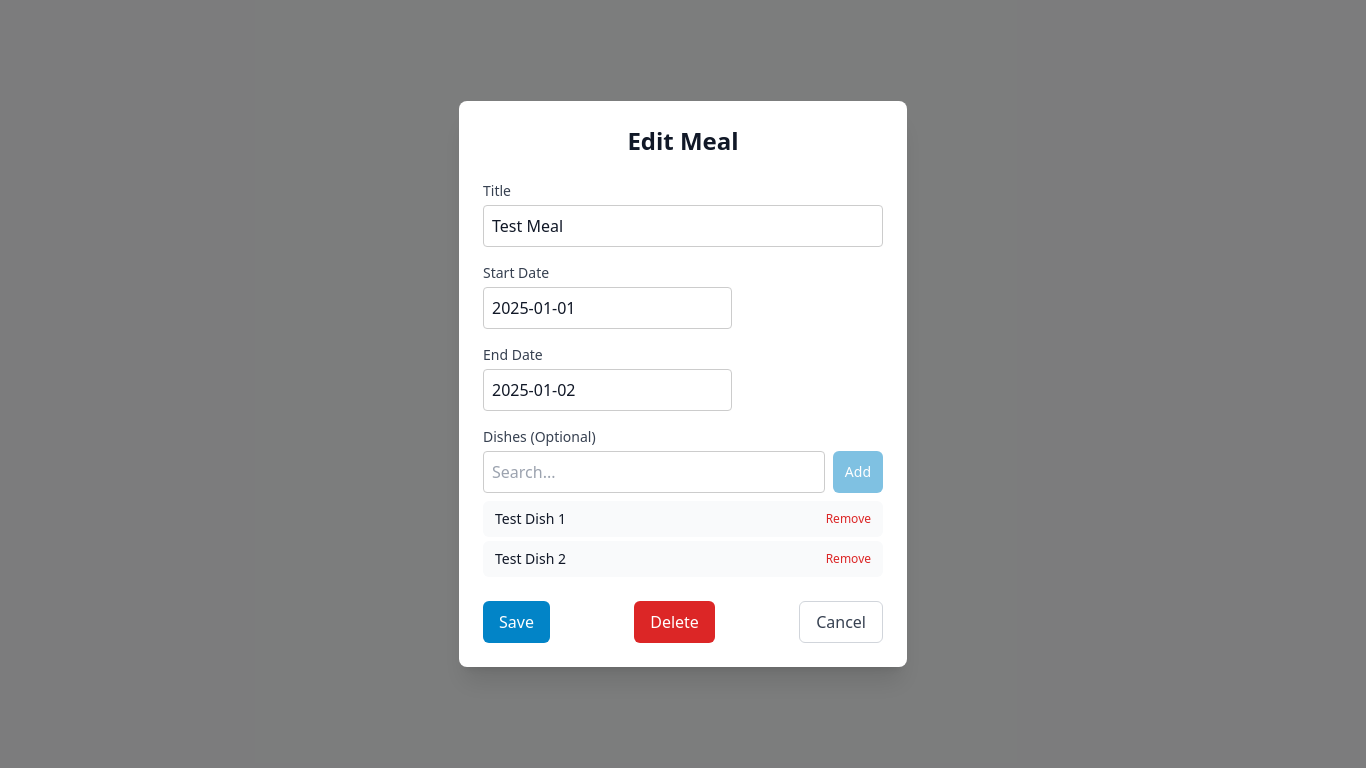
EditMealWindow › handles removing a dish from the meal
Expected: the text "Test Dish 1" is shown, [495,509,566,529]
Expected: the text "Test Dish 2" is shown, [495,549,566,569]
Step 1. Click the button "Remove" in the row of "Test Dish 1" → (848, 519), box [826,511,871,527]
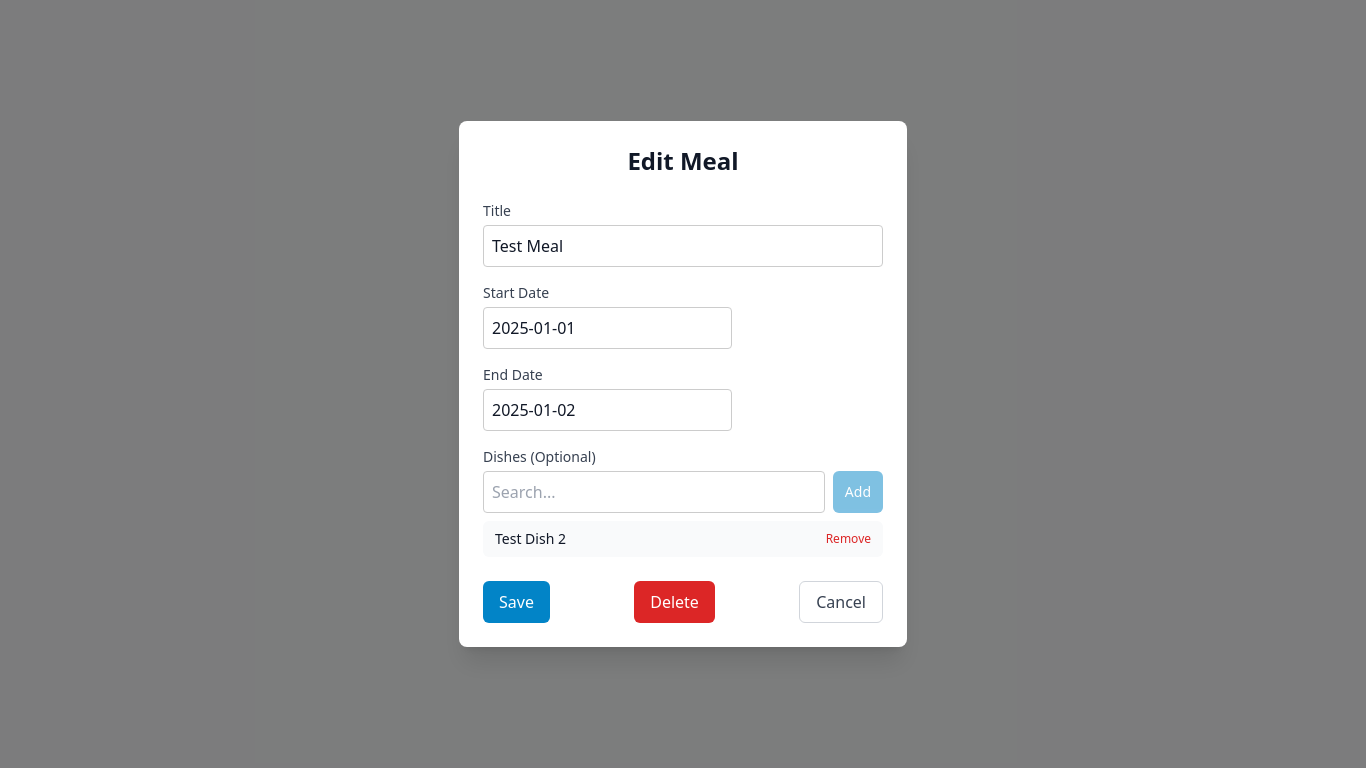
Expected: the text "Test Dish 2" is shown once, [495,529,566,549]
